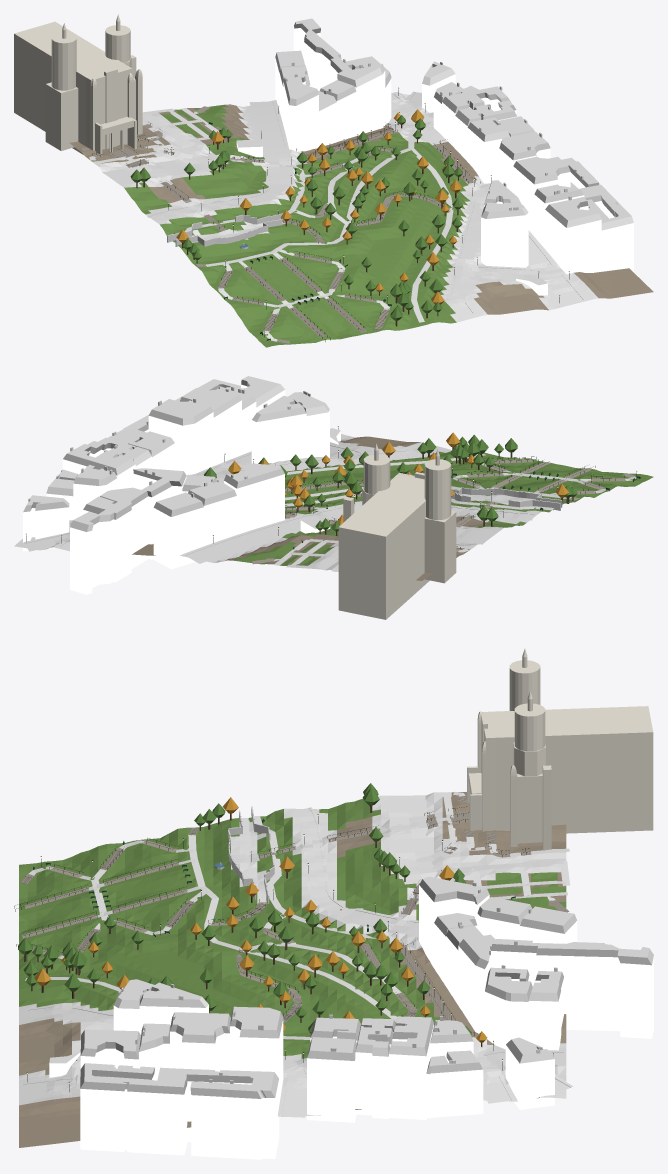
Rendered from zone_F4.glb.
3 renders of one model, top to bottom at view 1: azimuth 30°, elevation 25°; view 2: azimuth 150°, elevation 25°; view 3: azimuth 270°, elevation 25°, orthographic. The views are drawn at different scales.
Visible parts, largest first — view 1: zone_F4_terrain, zone_F4_batiments, zone_F4_sol_NOCOL, zone_F4_decor_NOCOL; view 2: zone_F4_batiments, zone_F4_terrain, zone_F4_sol_NOCOL, zone_F4_decor_NOCOL; view 3: zone_F4_batiments, zone_F4_terrain, zone_F4_sol_NOCOL, zone_F4_decor_NOCOL.
Part boxes in pixels (bbox=[...]): zone_F4_terrain: bbox=[70, 92, 653, 347]; zone_F4_batiments: bbox=[14, 14, 633, 295]; zone_F4_sol_NOCOL: bbox=[80, 91, 587, 343]; zone_F4_decor_NOCOL: bbox=[92, 87, 569, 341]; zone_F4_batiments: bbox=[23, 376, 562, 619]; zone_F4_terrain: bbox=[14, 434, 653, 580]; zone_F4_sol_NOCOL: bbox=[23, 443, 636, 571]; zone_F4_decor_NOCOL: bbox=[25, 426, 640, 549]; zone_F4_batiments: bbox=[49, 649, 653, 1159]; zone_F4_terrain: bbox=[19, 792, 566, 1147]; zone_F4_sol_NOCOL: bbox=[20, 791, 573, 1117]; zone_F4_decor_NOCOL: bbox=[14, 783, 553, 1091].
Size of the model in its own units: 204 by 99.65 by 217.
